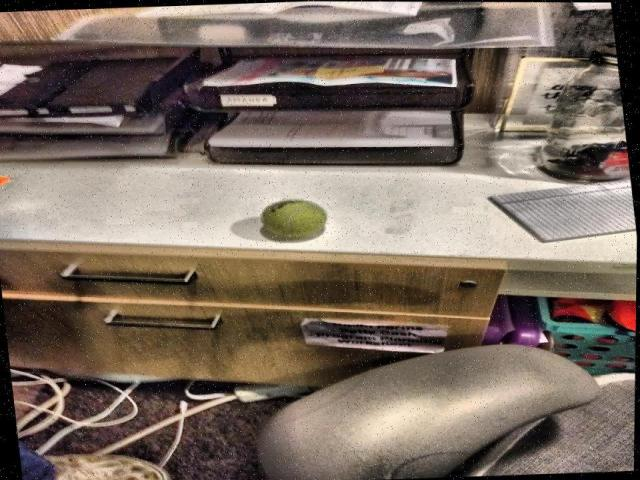tennis-ball: (259, 199, 328, 238)
